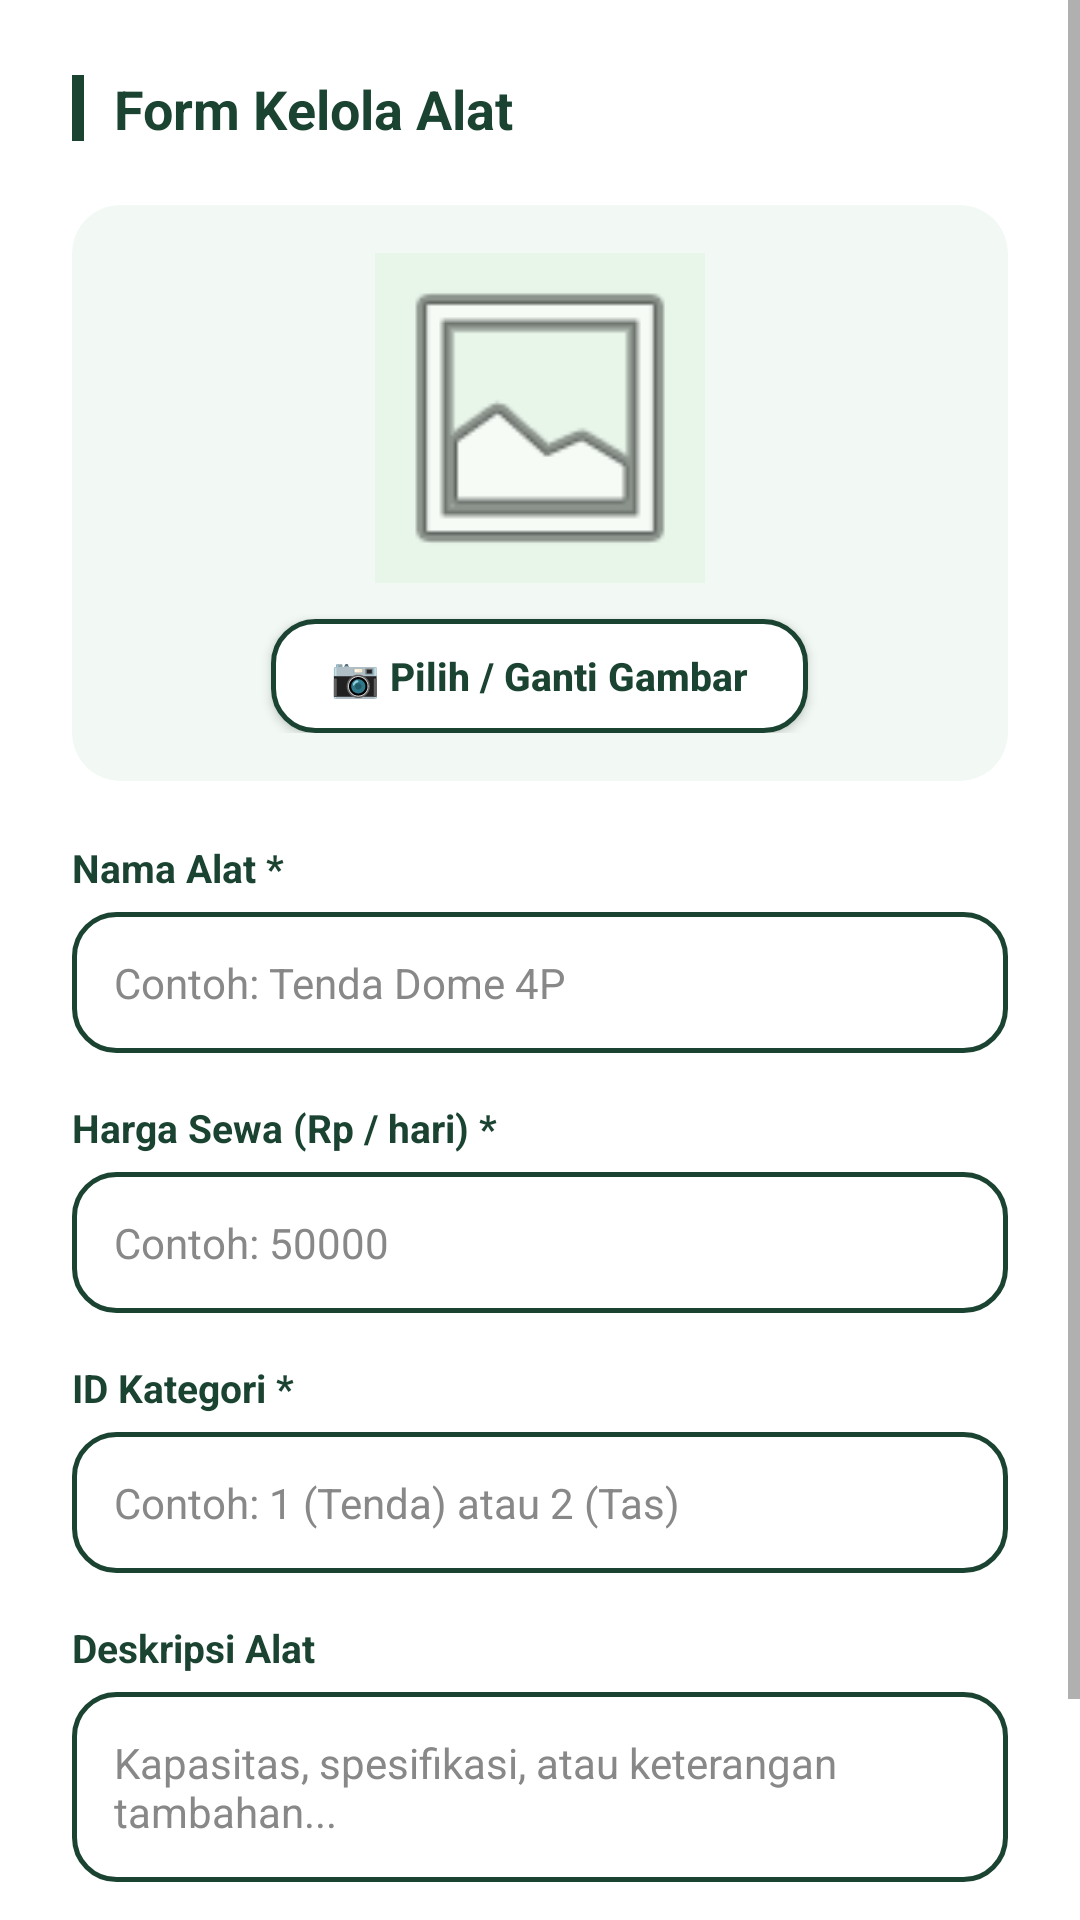

Point at icon controls on the screen. Image size 1080 x 1920, points as (x=x, y=y).
Preview: (x=540, y=418)
